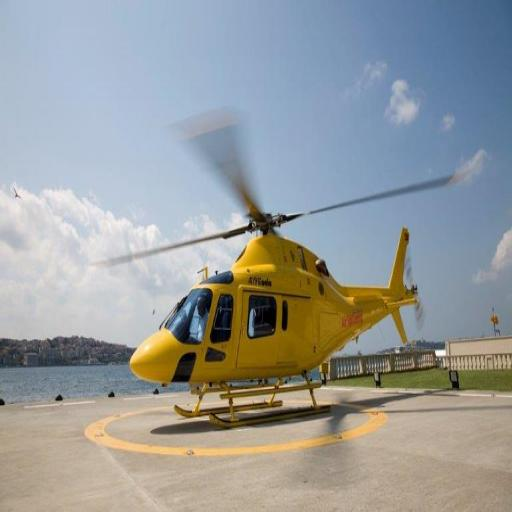helicopter: (88, 99, 469, 436)
